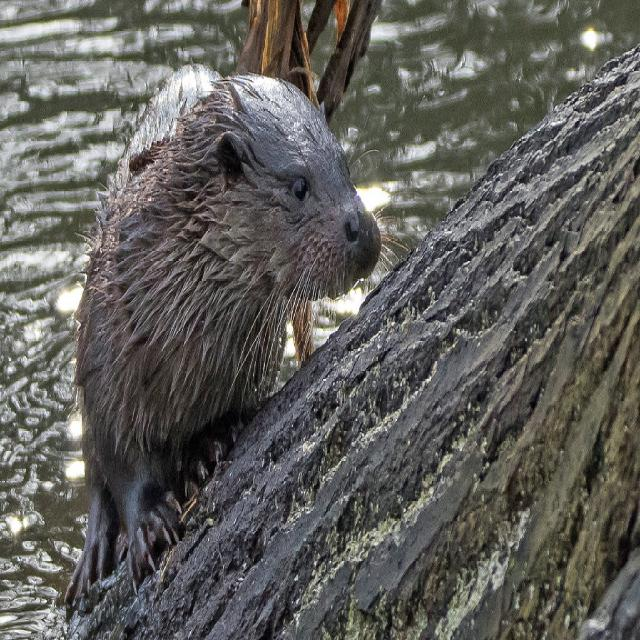otter: (67, 61, 382, 605)
